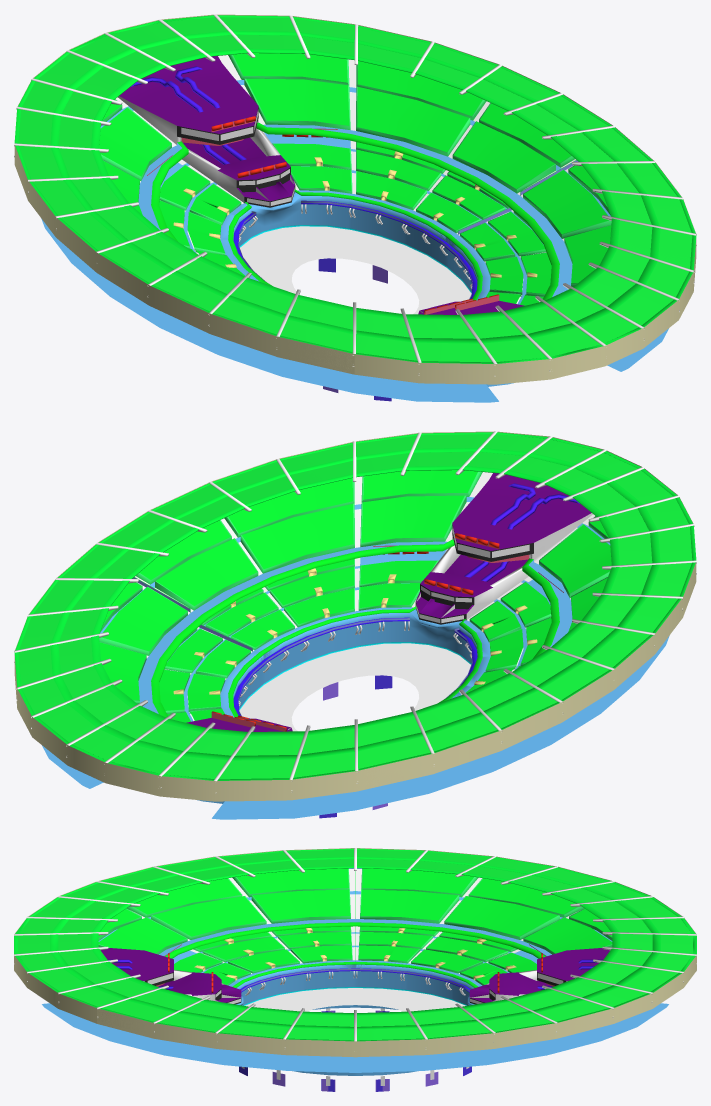
The model's file is Estadio.fbx.
The picture shows the model from 3 angles, top to bottom: view 1: azimuth 30°, elevation 25°; view 2: azimuth 150°, elevation 25°; view 3: azimuth 270°, elevation 25°; orthographic projection. The views are drawn at different scales.
Parts seen in each view (by area): view 1: Stadium; view 2: Stadium; view 3: Stadium.
Boxes of the visible parts, x1,y1,x2,y2 form: Stadium: (14, 14, 696, 402); Stadium: (14, 431, 696, 819); Stadium: (14, 848, 696, 1091).
Size of the model in its own units: 66396 by 18830 by 99072.
